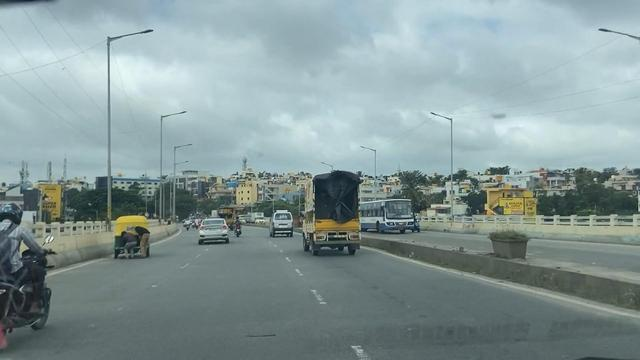HMV: (303, 169, 370, 255), (364, 195, 417, 237)
